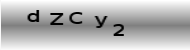2: (111, 22, 127, 37)
C: (68, 10, 84, 26)
Z: (48, 12, 66, 26)
d: (25, 7, 42, 23)
y: (94, 14, 108, 29)
